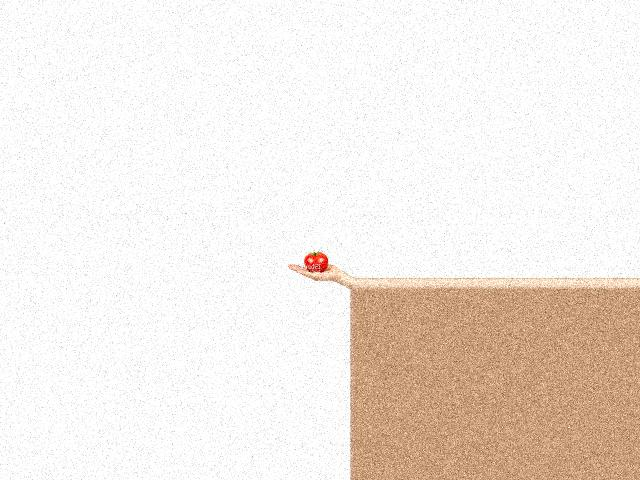tomato: (304, 252, 327, 272)
